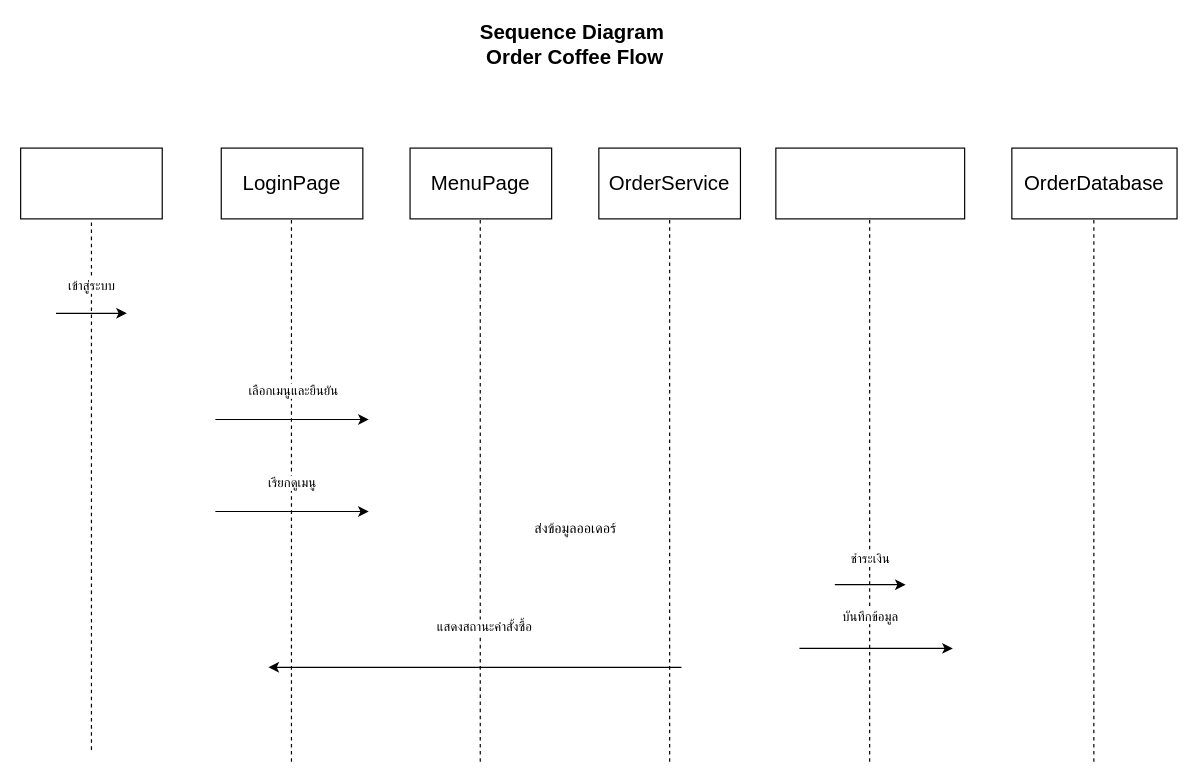
Some shapes in this 1198 by 784 pixel diagram are drawn without their labels. Here are the shapes that lost their labels. From the top down, the box of each, then its label:
(19, 147, 162, 219): Customer
(775, 147, 965, 219): PaymentGateway
